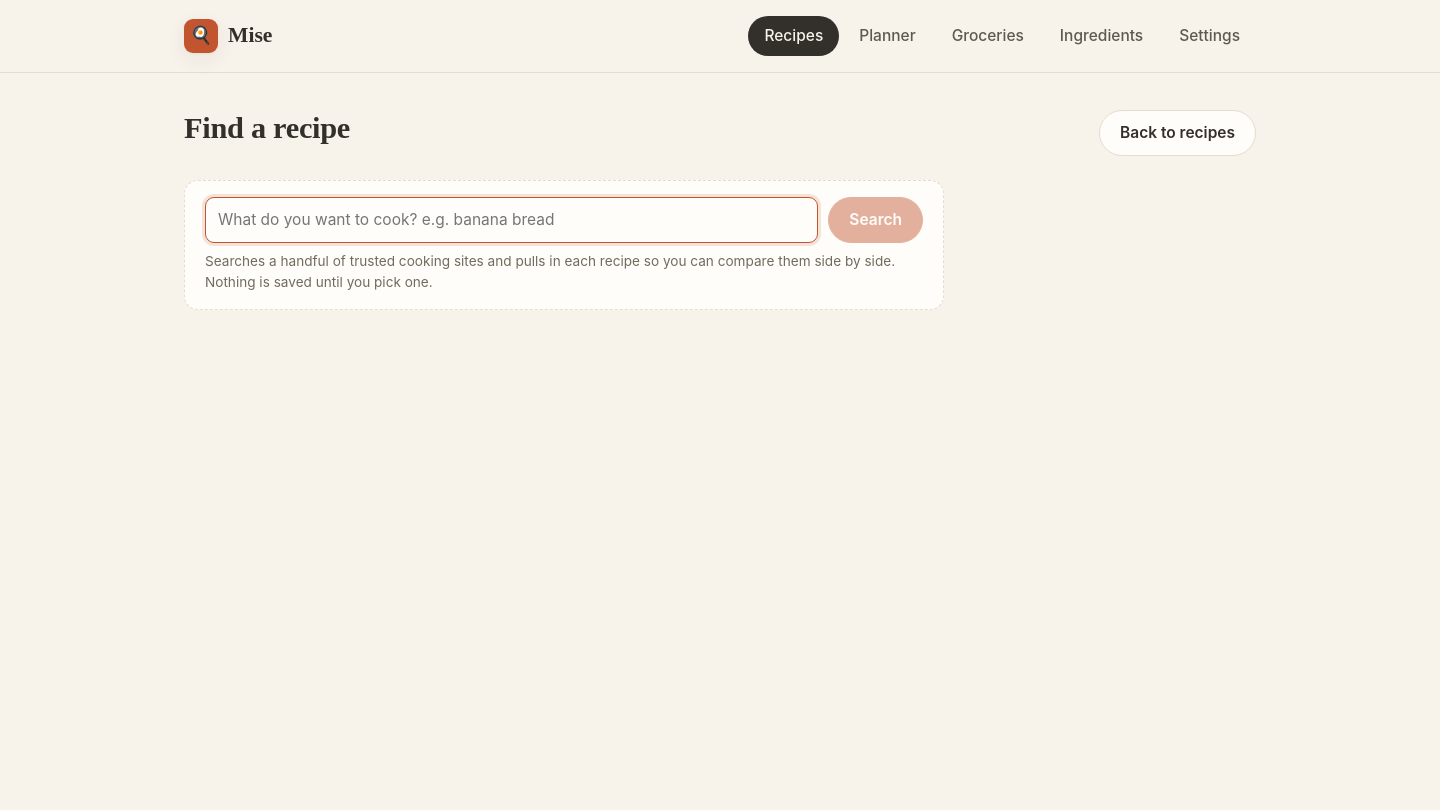
Test: RecipeSearchPage › offers one tab per result, labelled by site, with the first one open
In the field with placeholder "What do you want to cook? e.g. banana bread": (512,220) left=205, top=197, right=818, bottom=243, type "banana bread"
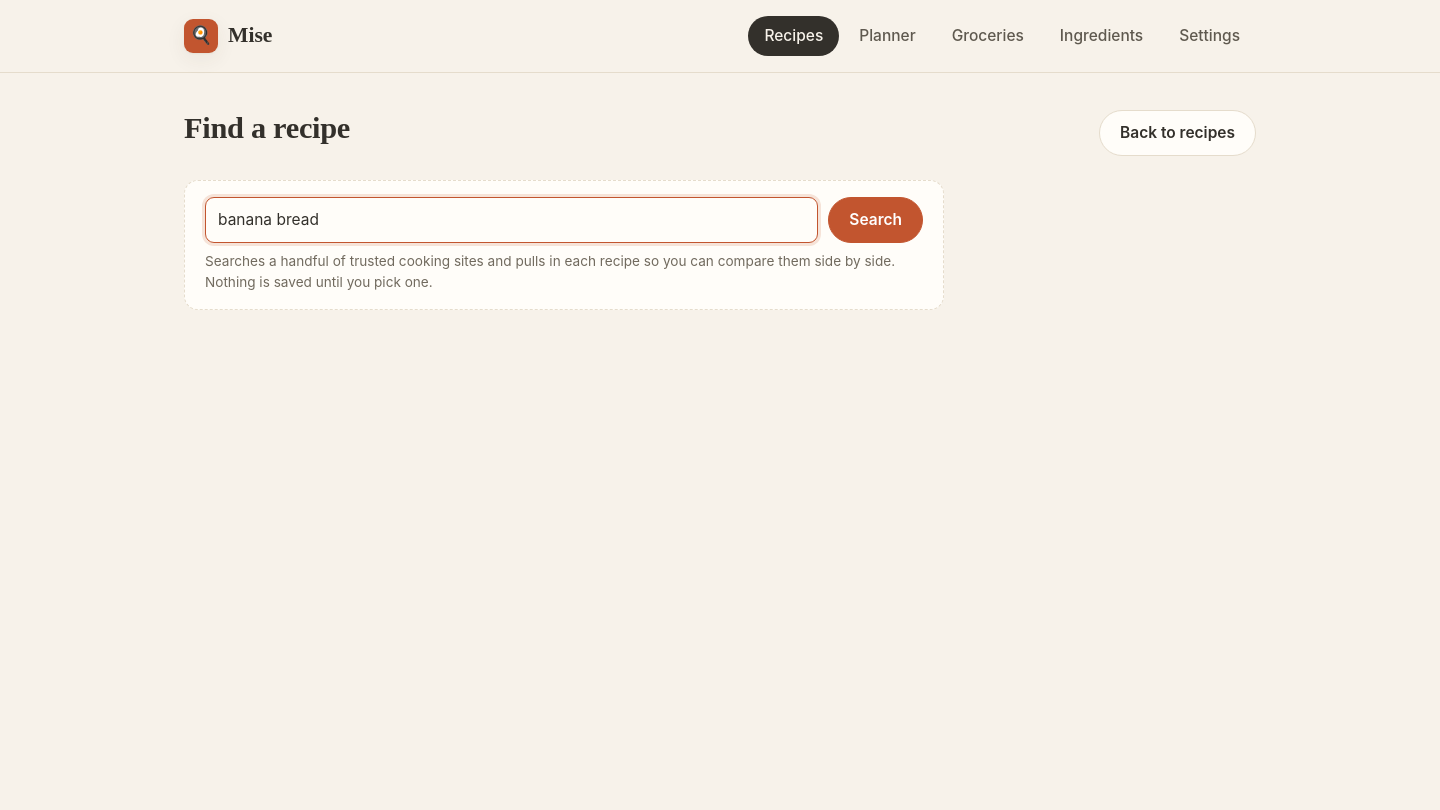
Click the button "Search": (876,220) left=828, top=197, right=923, bottom=243
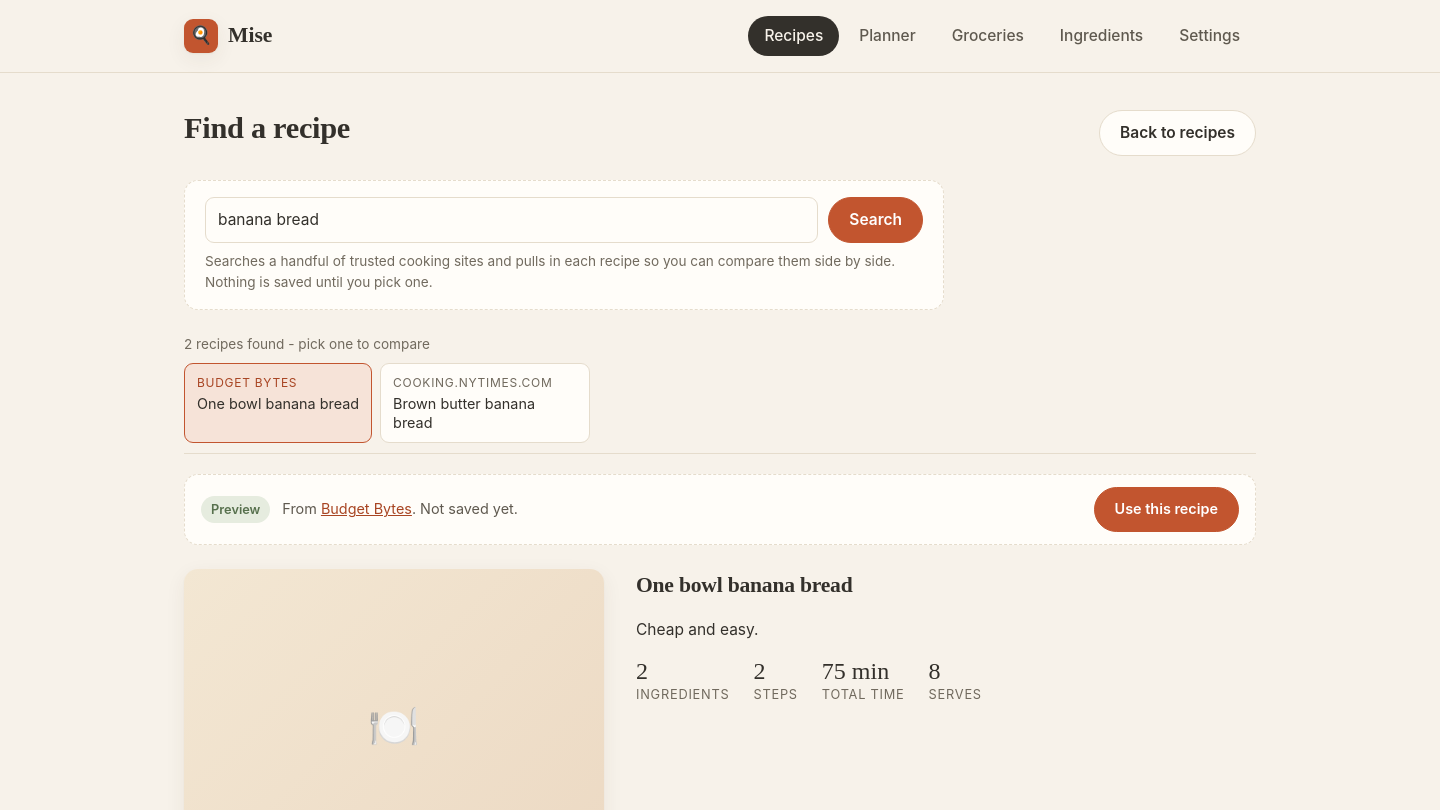
Expected: the text "2 recipes found - pick one to compare" is shown, left=184, top=336, right=430, bottom=352
